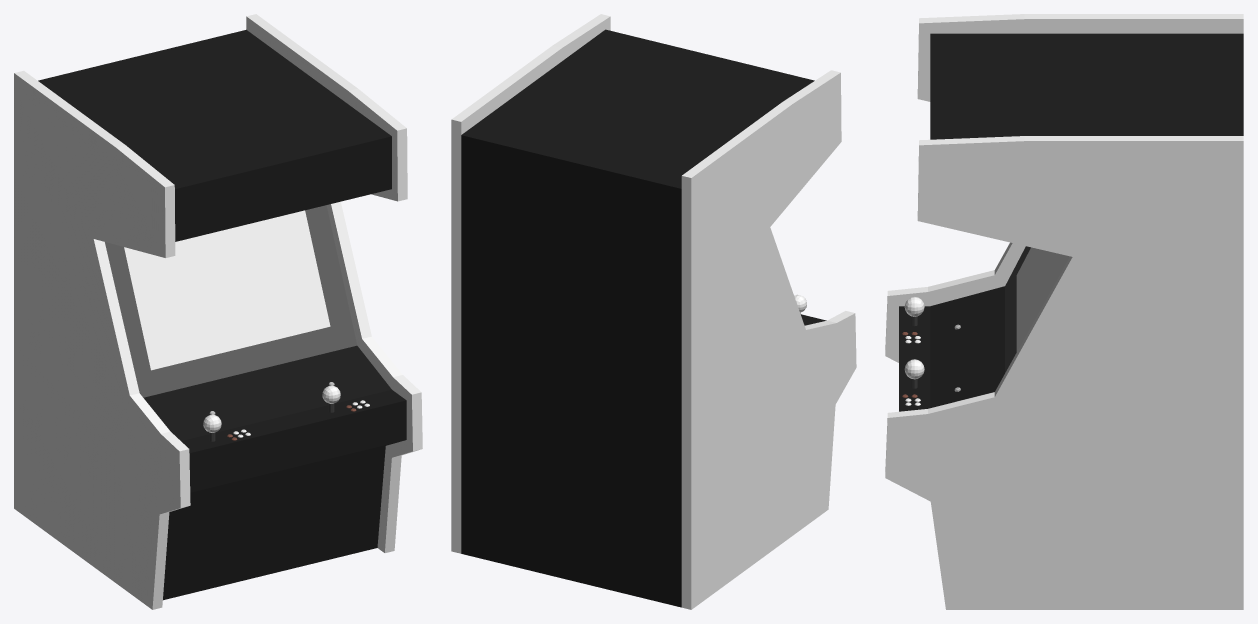
File: Arcade.fbx
3 renders of one model, left to right at view 1: azimuth 30°, elevation 25°; view 2: azimuth 150°, elevation 25°; view 3: azimuth 270°, elevation 25°, orthographic. The views are drawn at different scales.
Visible parts, largest first — view 1: Arcade; view 2: Arcade; view 3: Arcade.
Part boxes in pixels (x1=…): Arcade: x1=14, y1=14, x2=422, y2=609; Arcade: x1=451, y1=14, x2=856, y2=609; Arcade: x1=885, y1=14, x2=1243, y2=609.
Bounding box in the file's own units: 96 × 165 × 114.
